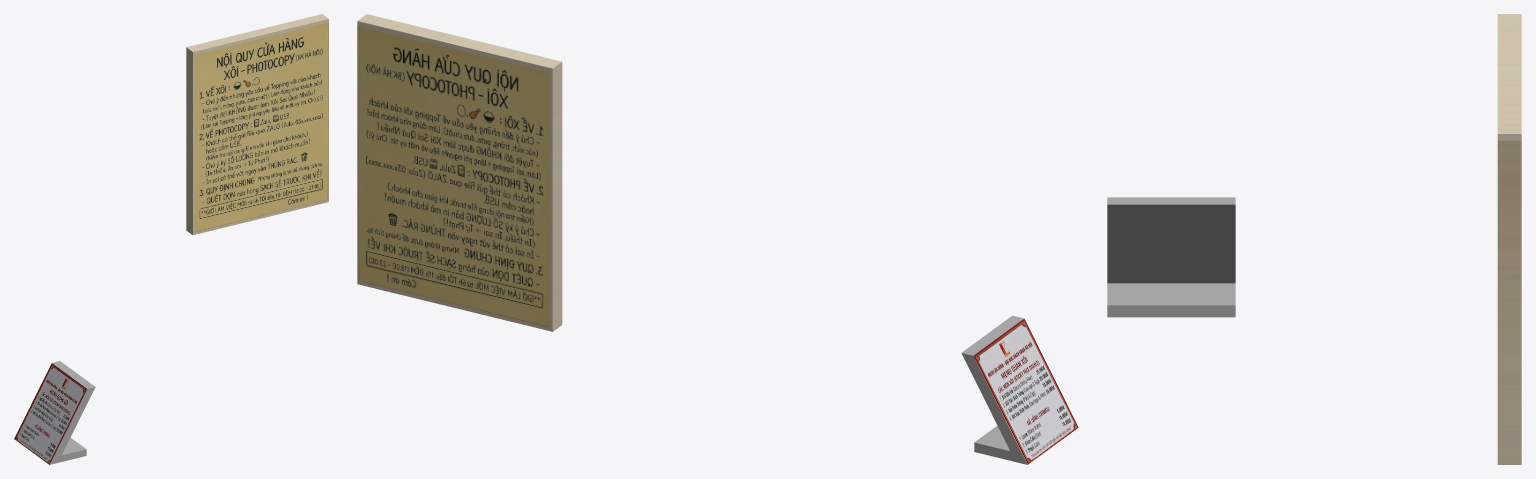
The model's file is menu.glb.
3 views of the same model, side by side, from view 1: azimuth 30°, elevation 25°; view 2: azimuth 150°, elevation 25°; view 3: azimuth 270°, elevation 25° (orthographic). The views are drawn at different scales.
Parts seen in each view (by area): view 1: 3b084107-808e-4149-a7b9-35779f7ad8bf, Plane; view 2: 3b084107-808e-4149-a7b9-35779f7ad8bf, Plane; view 3: Plane, 3b084107-808e-4149-a7b9-35779f7ad8bf.
Part boxes in pixels (<box>): 3b084107-808e-4149-a7b9-35779f7ad8bf: <box>186,14,328,235</box>; Plane: <box>14,361,95,464</box>; 3b084107-808e-4149-a7b9-35779f7ad8bf: <box>357,14,562,331</box>; Plane: <box>961,315,1078,464</box>; Plane: <box>1107,197,1235,317</box>; 3b084107-808e-4149-a7b9-35779f7ad8bf: <box>1497,14,1521,464</box>.
Bounding box in the file's own units: 5.04 × 3.38 × 2.58.
3 materials, 2 textured.
